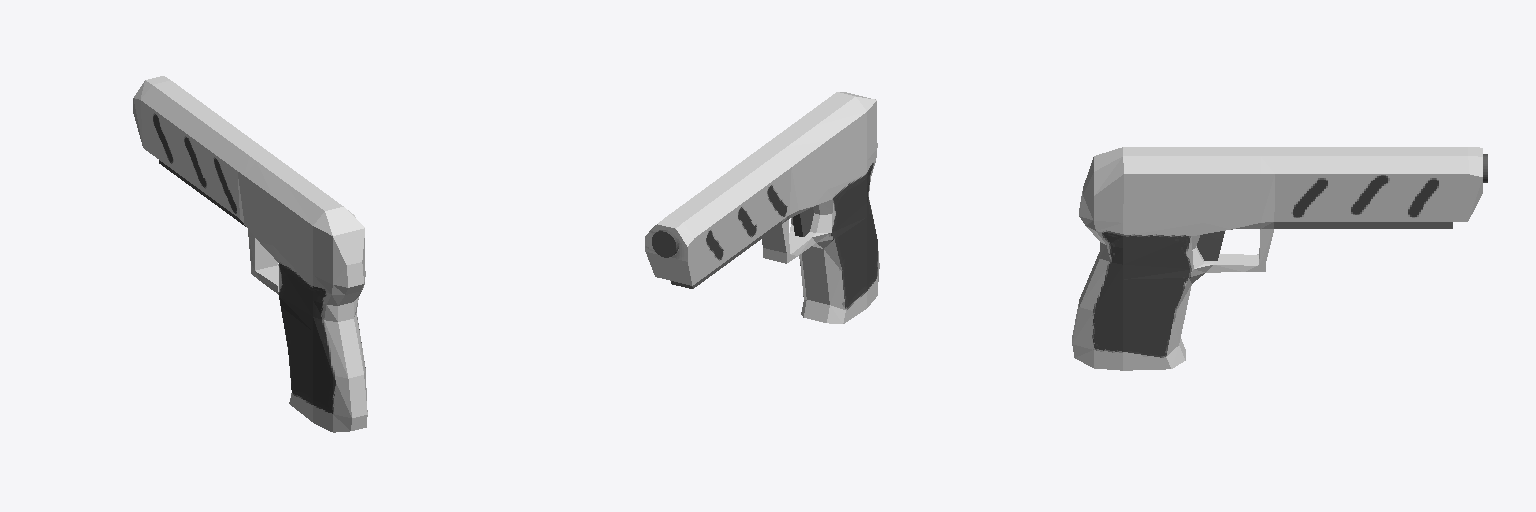
3 views of the same model, side by side, from view 1: azimuth 30°, elevation 25°; view 2: azimuth 150°, elevation 25°; view 3: azimuth 270°, elevation 25° (orthographic).
Visible parts, largest first — view 1: Cube; view 2: Cube; view 3: Cube.
Boxes of the visible parts, x1=… form: Cube: x1=133, y1=76, x2=367, y2=432; Cube: x1=645, y1=92, x2=879, y2=323; Cube: x1=1072, y1=147, x2=1487, y2=370.
Bounding box in the file's own units: 0.487 × 2.3 × 4.15.
Materials: 1 (1 with a texture image).